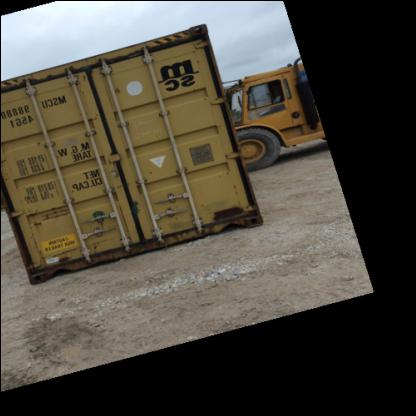Damage: (38, 124, 86, 164), (204, 196, 250, 226), (144, 212, 192, 240), (166, 25, 206, 49), (89, 206, 108, 242)
